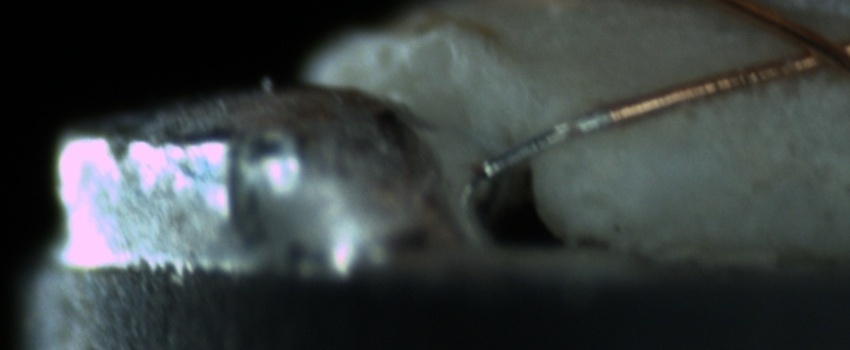CL: (771, 16, 849, 79)
TS: (480, 110, 611, 177)
